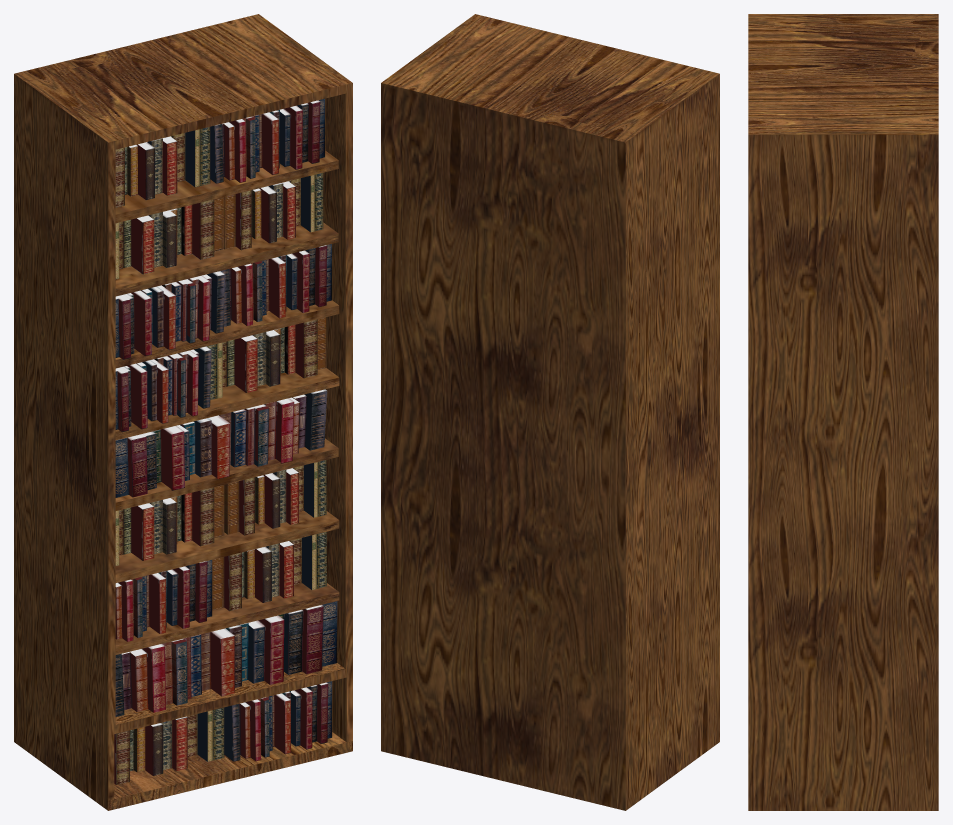
The model's file is library.fbx.
3 renders of one model, left to right at view 1: azimuth 30°, elevation 25°; view 2: azimuth 150°, elevation 25°; view 3: azimuth 270°, elevation 25°, orthographic.
Parts seen in each view (by area): view 1: Plane.039; view 2: Plane.039; view 3: Plane.039.
Boxes of the visible parts, x1=… form: Plane.039: x1=14, y1=14, x2=352, y2=810; Plane.039: x1=381, y1=14, x2=719, y2=810; Plane.039: x1=748, y1=14, x2=938, y2=810.
Bounding box in the file's own units: 300 × 783 × 200.
1 material, 1 textured.
